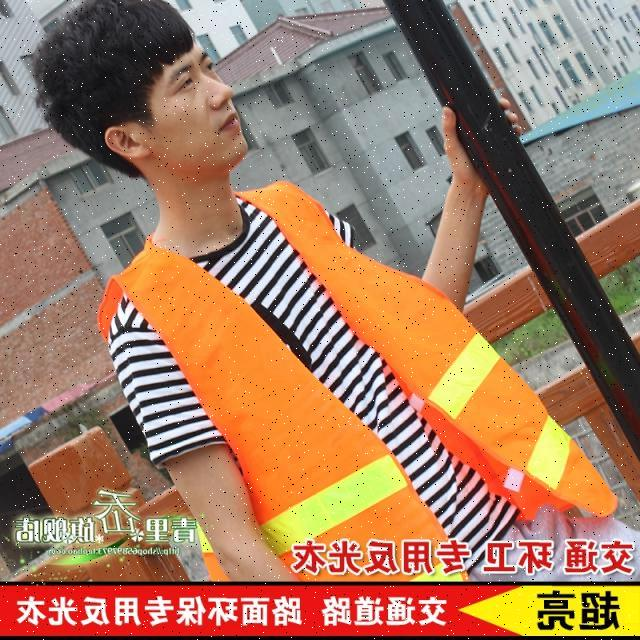Vest: (120, 186, 592, 570)
